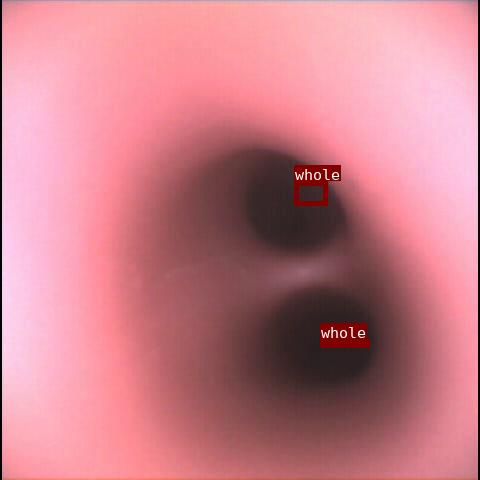whole: (294, 181, 327, 205), (320, 339, 369, 347)
